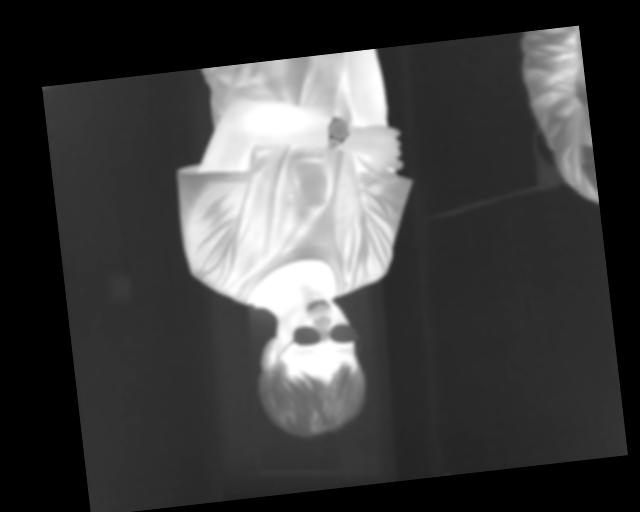face: (247, 287, 373, 443)
